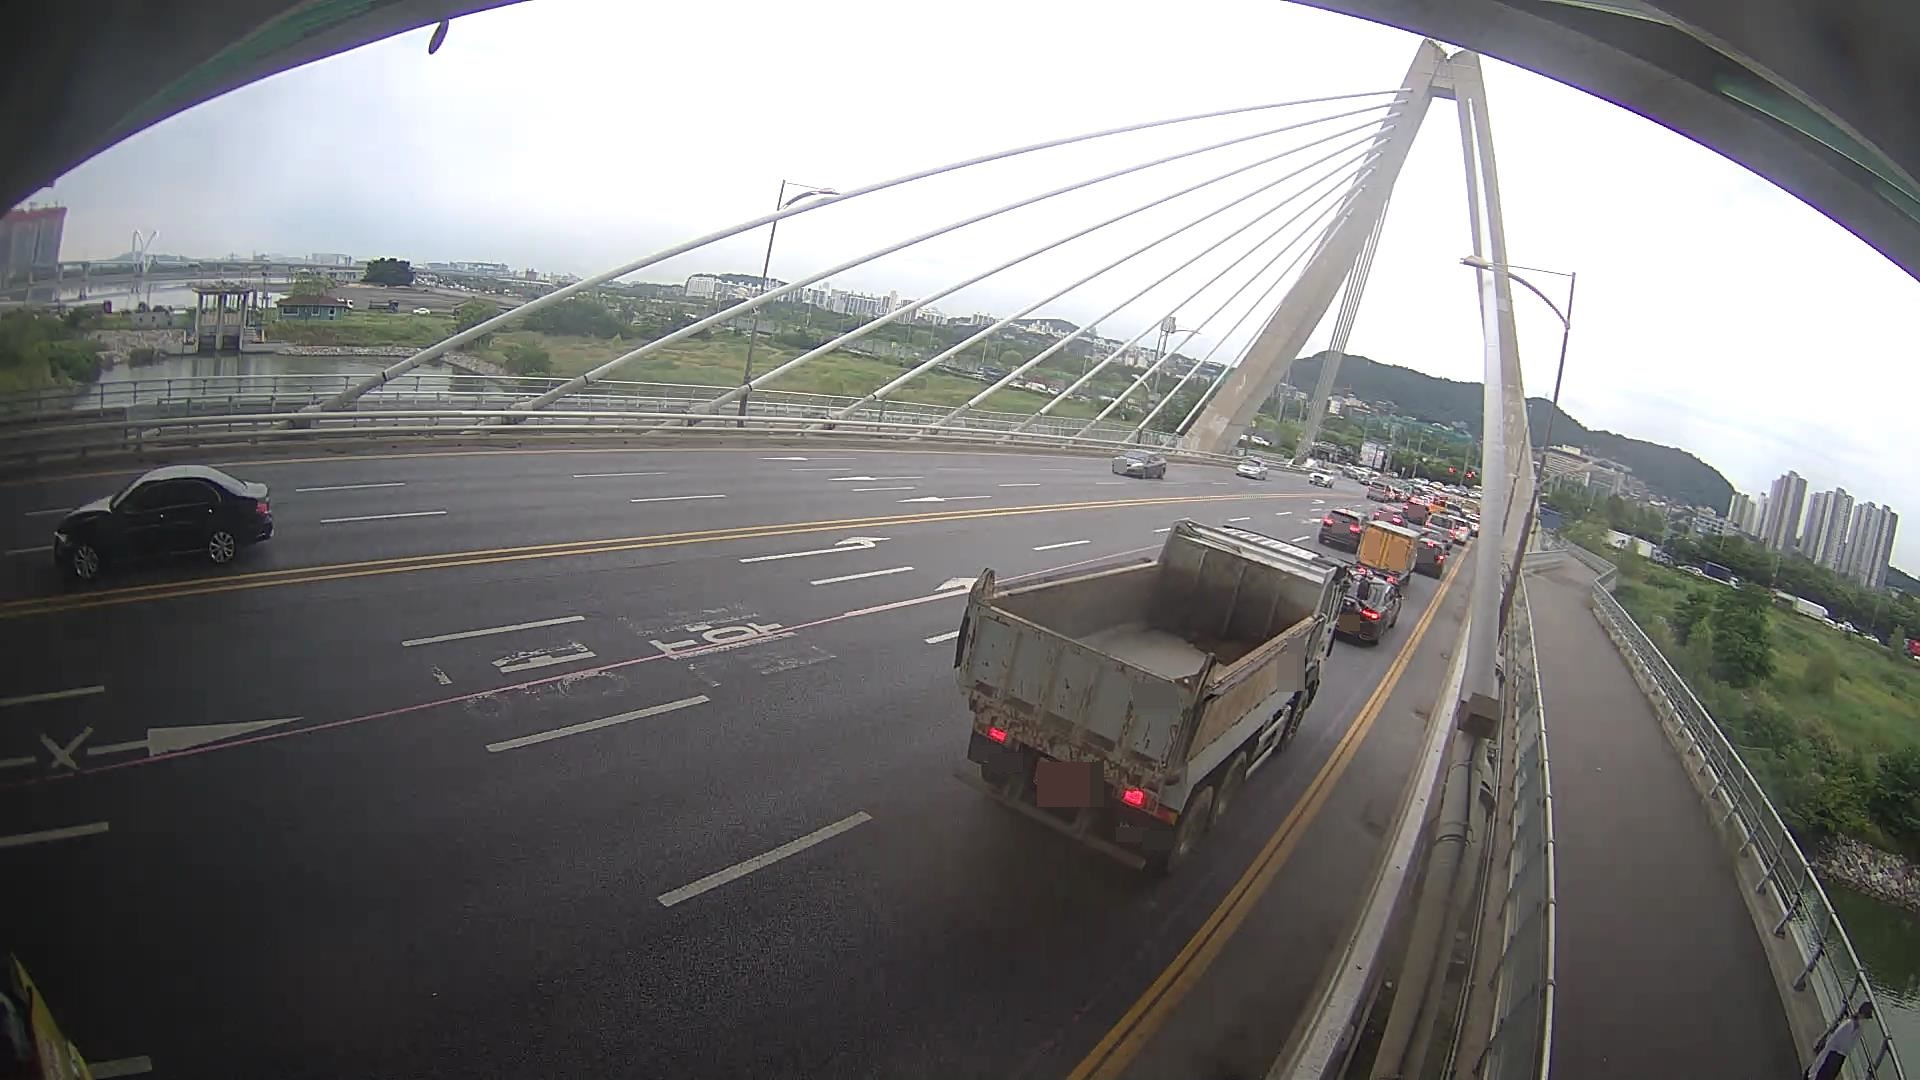정상차량: (954, 518, 1373, 877)
